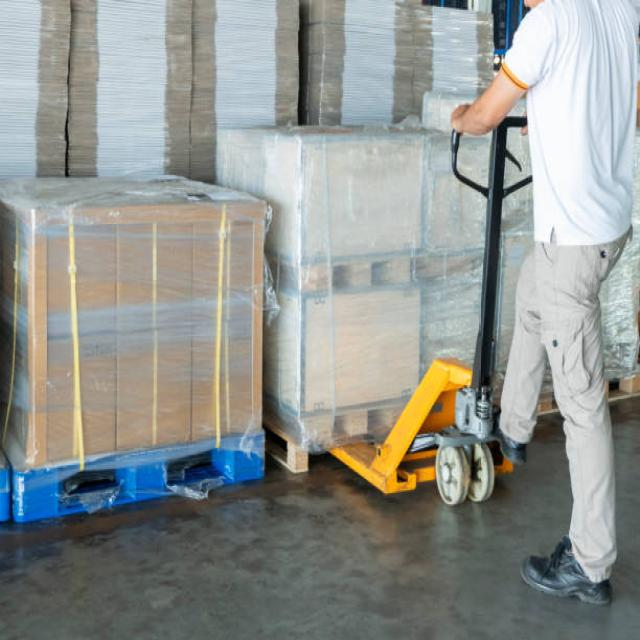Wooden-Pallets: (300, 249, 419, 299)
